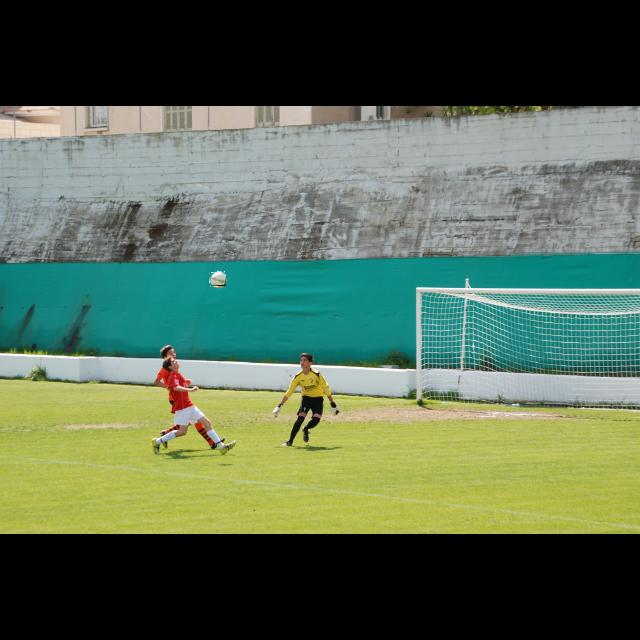Football: (210, 272, 226, 286)
